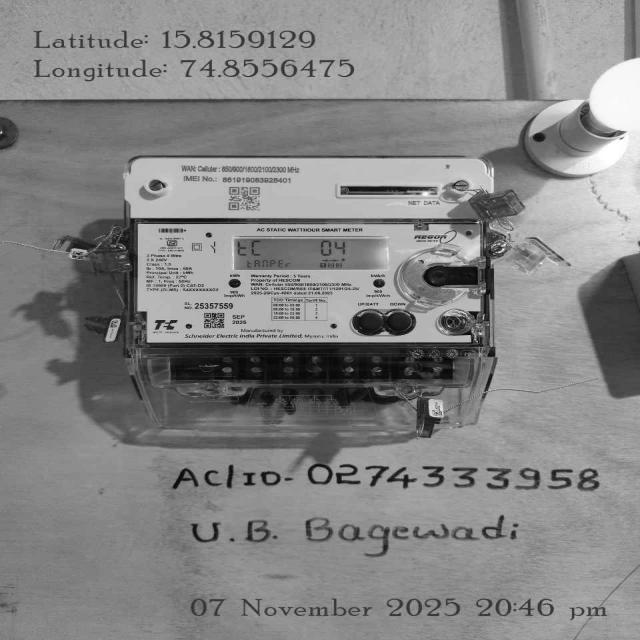meter: (131, 155, 498, 348)
